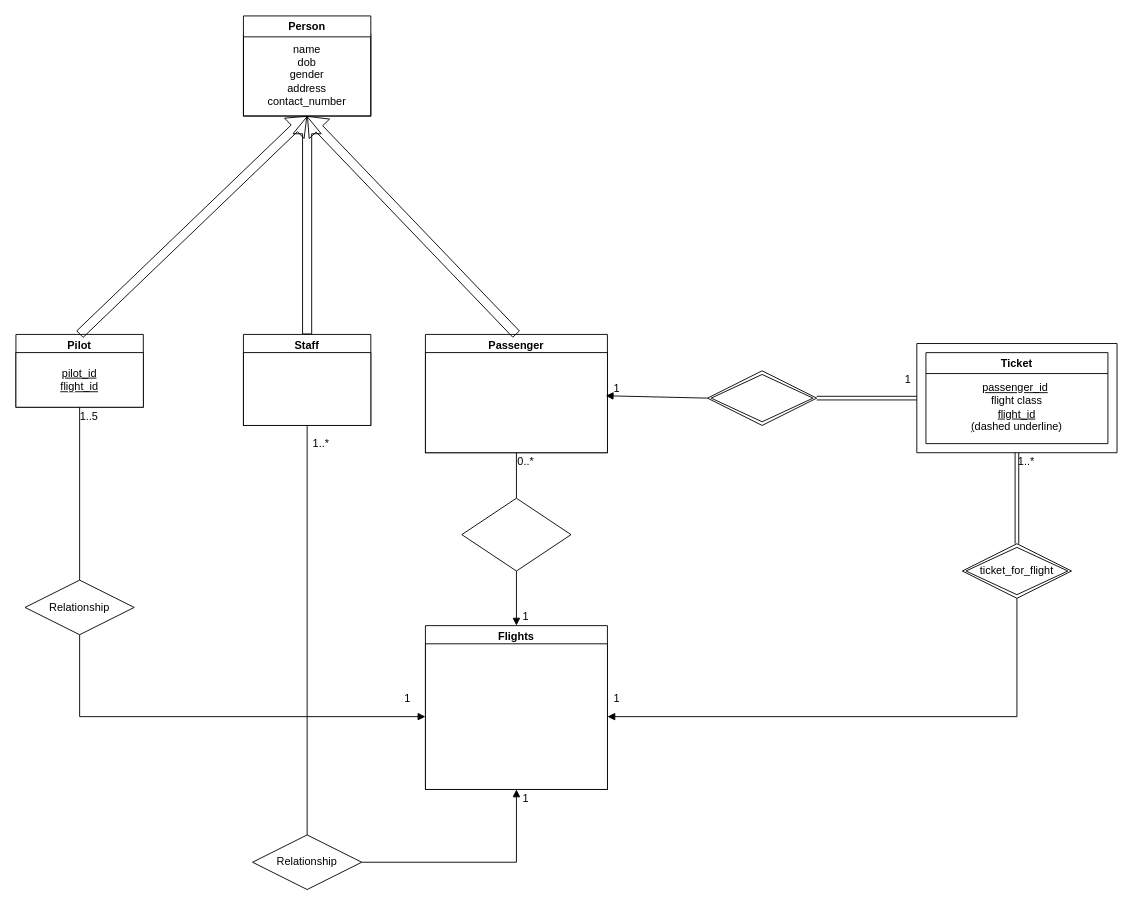
Some shapes in this 1133 by 905 pixel diagram are drawn without their labels. The centre of each missing label's shape, as x and y in pixels:
boards borading_time: the point at 516,534
flight_id passenger_id pilot_id from_city to_city departure_time arrival_time: the point at 516,716
flight_id staff_id: the point at 307,388
has_bought: the point at 762,397
passenger_id flight_id passenger_seatno: the point at 516,402
